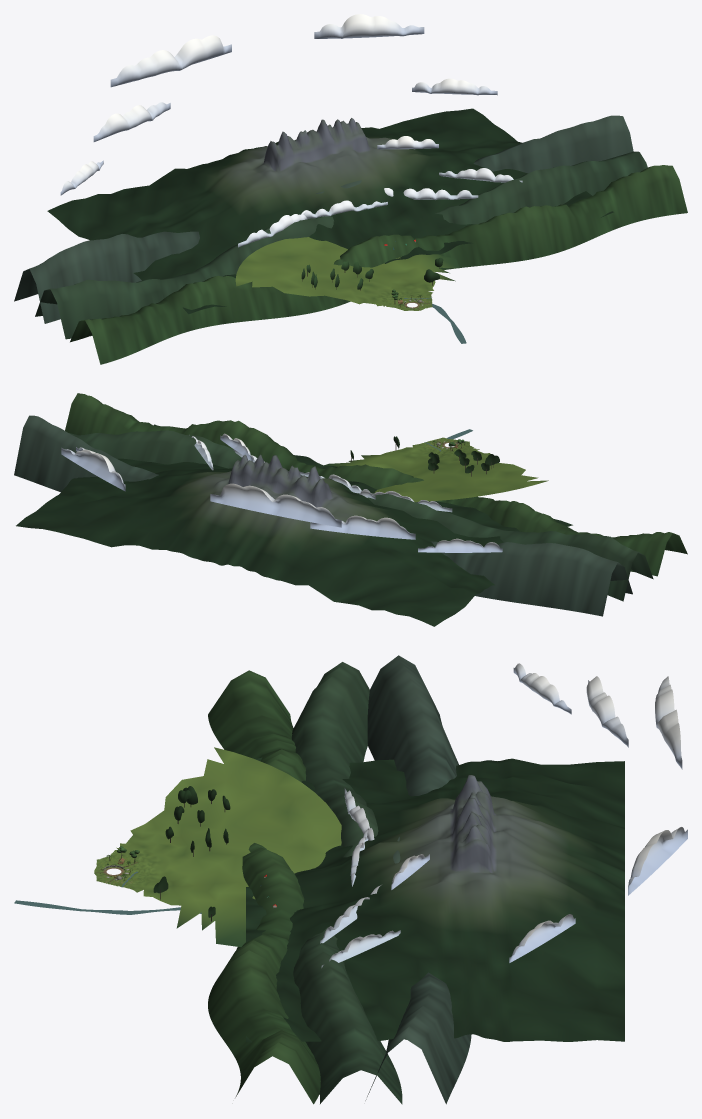
The model's file is arena_sabah.glb.
The picture shows the model from 3 angles, top to bottom: view 1: azimuth 30°, elevation 25°; view 2: azimuth 150°, elevation 25°; view 3: azimuth 270°, elevation 25°; orthographic projection. The views are drawn at different scales.
Visible parts, largest first — view 1: EnvFar_MatLeaf_fern, EnvFar_MatRock_granite, EnvFar_MatSky_cloud, EnvFar_MatGround_moss, EnvBattle_MatGround_moss; view 2: EnvFar_MatRock_granite, EnvFar_MatLeaf_fern, EnvFar_MatSky_cloud, EnvFar_MatGround_moss, EnvBattle_MatGround_moss; view 3: EnvFar_MatRock_granite, EnvFar_MatLeaf_fern, EnvFar_MatGround_moss, EnvFar_MatSky_cloud, EnvBattle_MatGround_moss.
Boxes of the visible parts, x1,y1,x2,y2 form: EnvFar_MatLeaf_fern: (14, 115, 687, 364); EnvFar_MatRock_granite: (47, 108, 613, 314); EnvFar_MatSky_cloud: (60, 14, 522, 247); EnvFar_MatGround_moss: (235, 237, 459, 306); EnvBattle_MatGround_moss: (384, 293, 432, 310); EnvFar_MatRock_granite: (16, 424, 572, 626); EnvFar_MatLeaf_fern: (14, 393, 687, 616); EnvFar_MatSky_cloud: (61, 433, 502, 552); EnvFar_MatGround_moss: (324, 443, 548, 502); EnvBattle_MatGround_moss: (421, 437, 473, 454); EnvFar_MatRock_granite: (246, 757, 624, 1042); EnvFar_MatLeaf_fern: (153, 655, 471, 1104); EnvFar_MatGround_moss: (115, 747, 341, 947); EnvFar_MatSky_cloud: (320, 663, 687, 967); EnvBattle_MatGround_moss: (94, 850, 151, 887).
Size of the model in its own units: 560 by 119 by 409.
